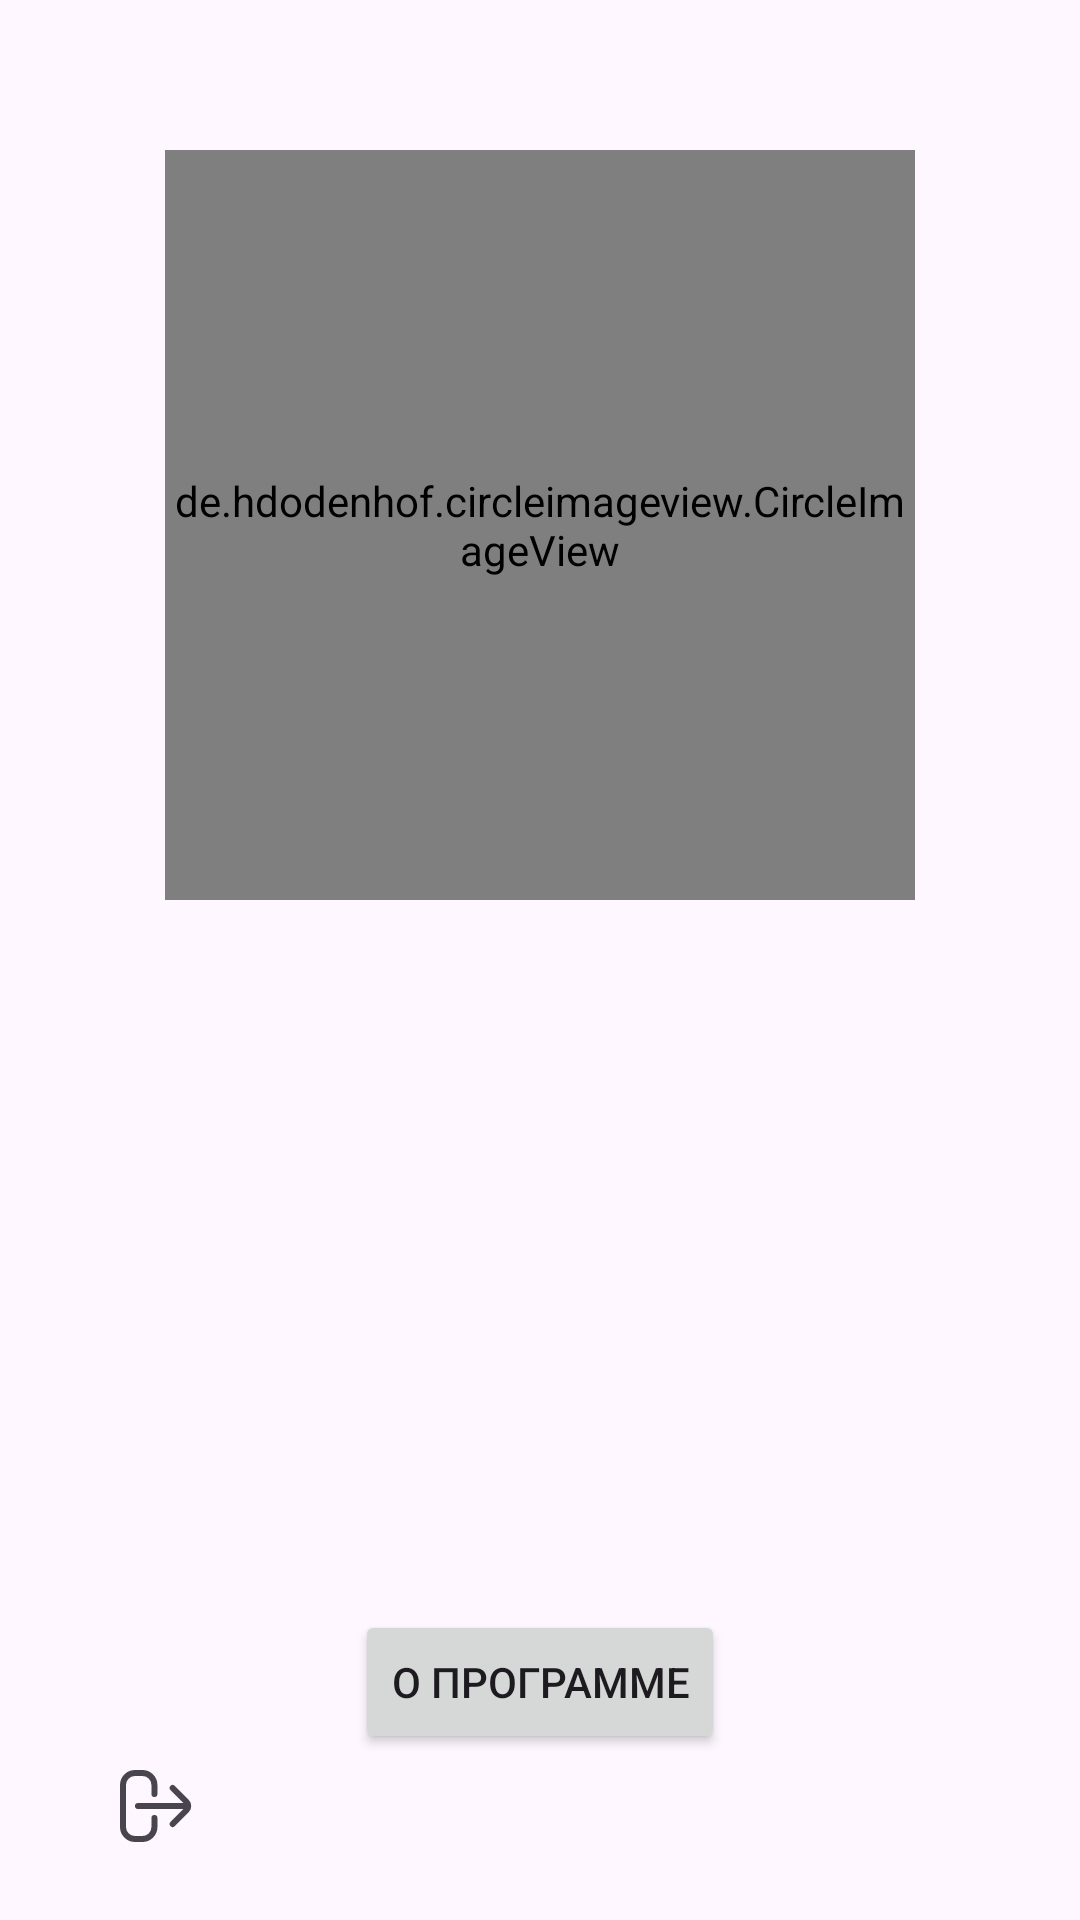

Icons on this 1080×1920 Android screen, each with its box as (x1, y1, x2, y2):
log out: (120, 1770, 191, 1842)
